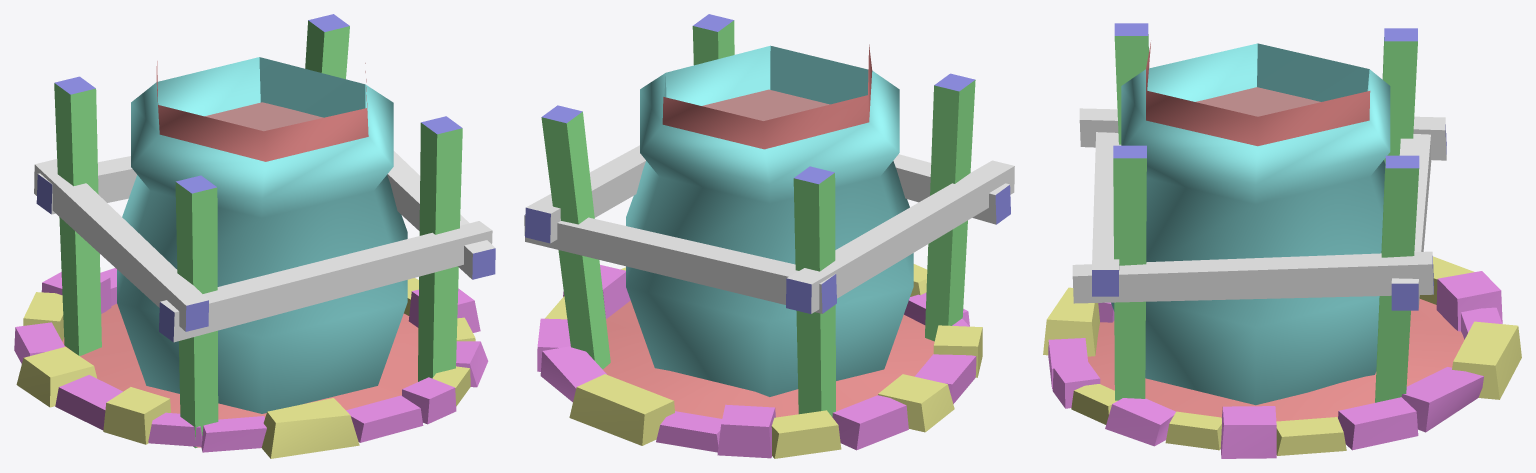
The model's file is darkelf_tent__darkelf_tent_pot.gltf.
3 renders of one model, left to right at view 1: azimuth 30°, elevation 25°; view 2: azimuth 150°, elevation 25°; view 3: azimuth 270°, elevation 25°, orthographic. The views are drawn at different scales.
Parts seen in each view (by area): view 1: darkelf_tent_pot; view 2: darkelf_tent_pot; view 3: darkelf_tent_pot.
Part boxes in pixels (x1,y1,x2,y2): darkelf_tent_pot: [14, 14, 495, 458]; darkelf_tent_pot: [524, 14, 1014, 458]; darkelf_tent_pot: [1043, 23, 1521, 458].
Size of the model in its own units: 1.09 by 0.757 by 1.1.
